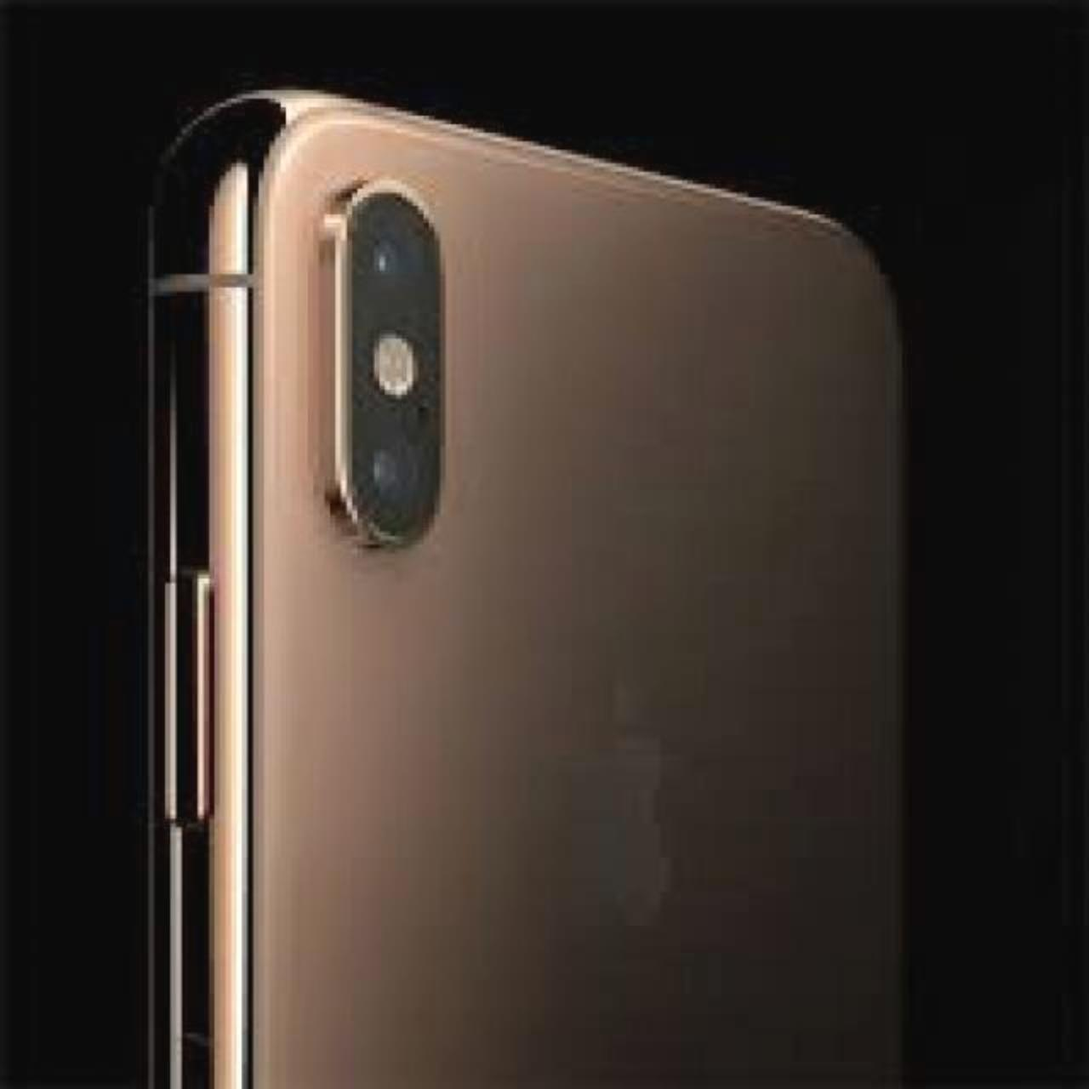phone: (138, 68, 978, 1089)
